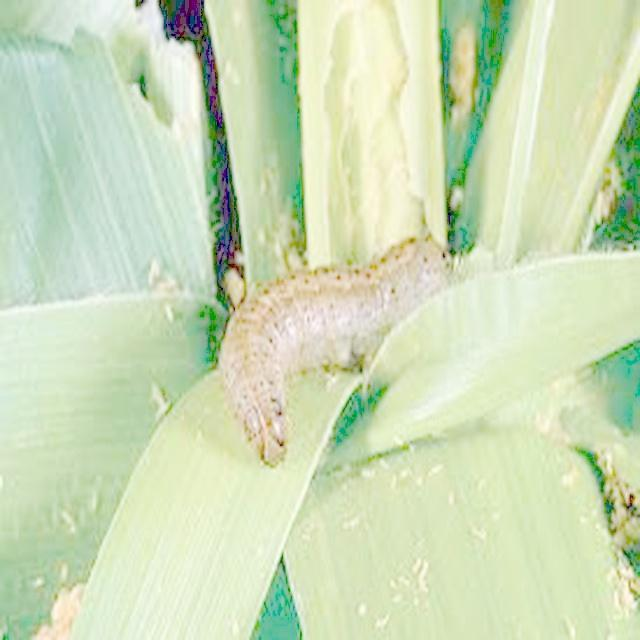Plaga: (218, 232, 460, 470)
